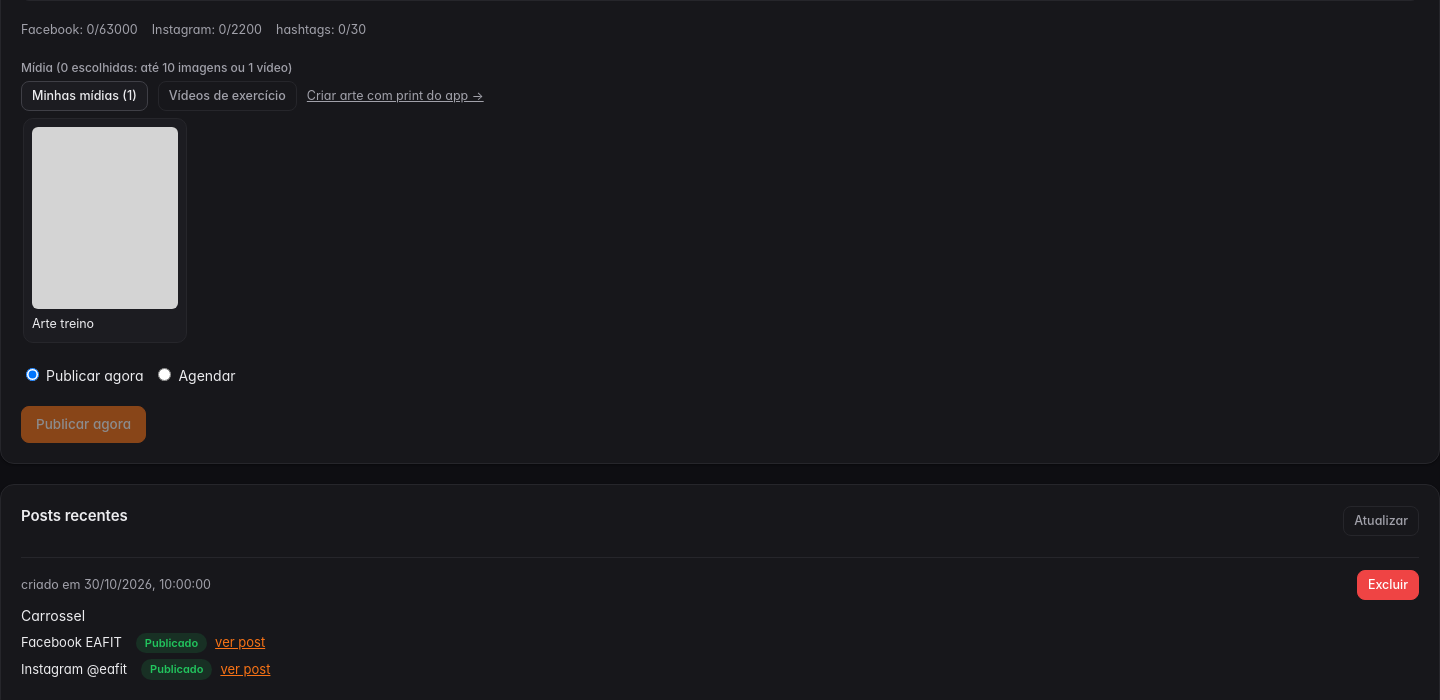
it: MarketingPublish: excluir › pergunta antes, avisa quantas redes e recarrega a lista
This screenshot has width=1440, height=700.
(page scrolled)
Click the button "Excluir" at (1388, 585), box [1357, 570, 1419, 600]
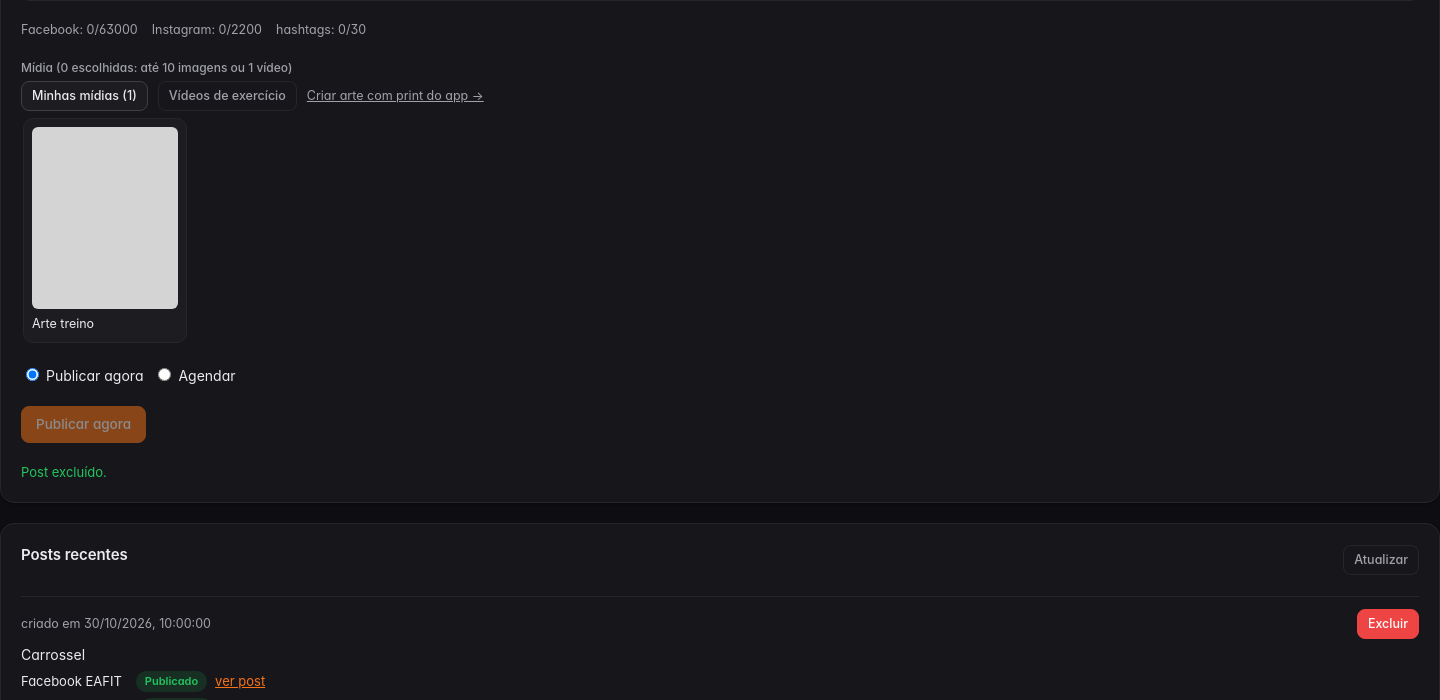
Result: the text "Post excluído." is shown at [21, 464, 107, 480]
